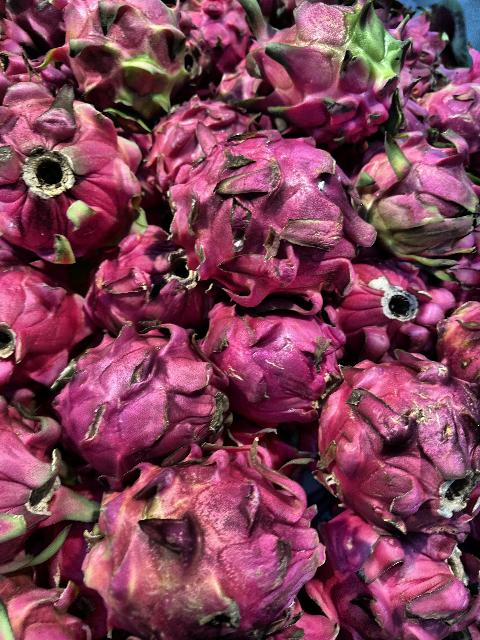buah-naga-belum-matang: (89, 458, 321, 626), (256, 0, 398, 138), (356, 138, 480, 264), (62, 0, 186, 120)
buah-naga-matang: (164, 140, 360, 298), (314, 358, 480, 532), (0, 74, 142, 276), (308, 496, 480, 640), (42, 326, 228, 448), (198, 293, 342, 422), (89, 230, 216, 334), (0, 261, 86, 381), (330, 256, 440, 346), (412, 80, 480, 158)
